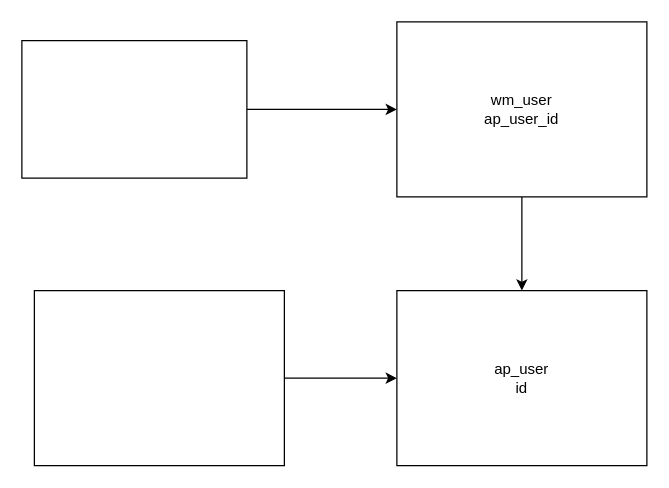
The diagram is 669 pixels wide and 488 high, and some of its shapes have lost their labels. The box of each missing label's shape, as (x1, y1, x2, y2) in pixels:
ap_author user_id: (33, 289, 284, 466)
wm_news user_id: (21, 39, 247, 178)
